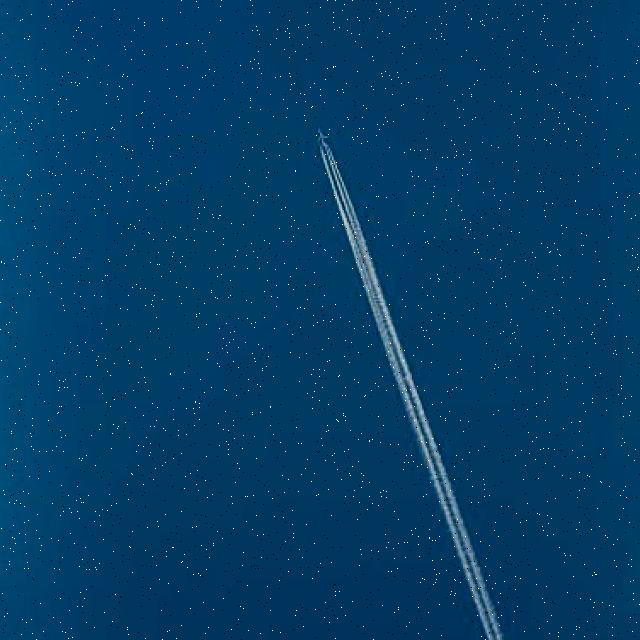Ct: (1, 108, 640, 600)
